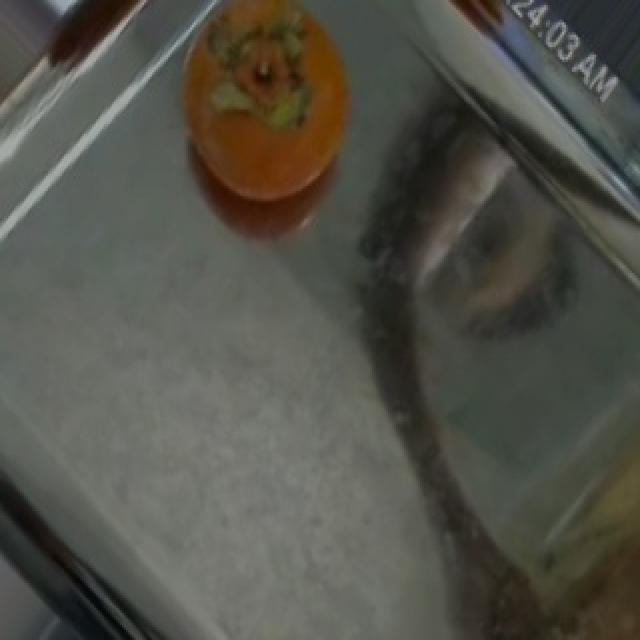Fruit: (148, 0, 382, 226)
